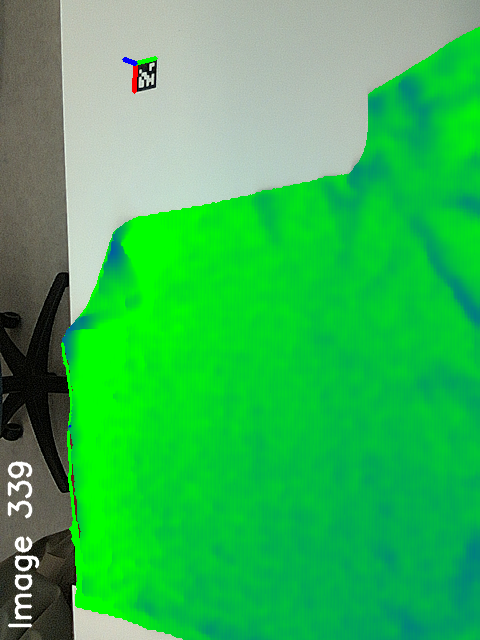V: (113, 277, 156, 315)
